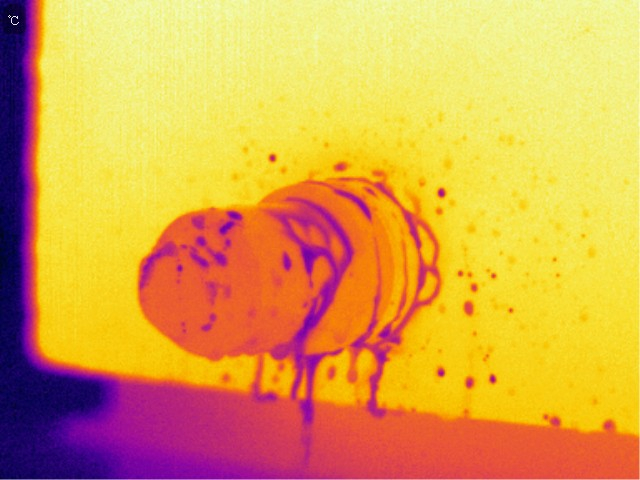Water: (268, 198, 357, 343), (268, 345, 338, 449), (359, 321, 407, 419), (402, 210, 445, 312), (329, 186, 380, 220), (364, 256, 385, 322), (250, 357, 274, 401), (206, 278, 234, 304), (344, 347, 361, 388), (190, 248, 212, 273), (210, 249, 233, 268), (277, 249, 297, 270), (190, 214, 211, 232), (461, 370, 478, 389), (543, 409, 562, 426), (220, 209, 249, 220), (329, 159, 351, 172), (205, 351, 224, 366), (600, 416, 617, 432), (461, 300, 478, 316), (435, 183, 448, 201), (229, 343, 242, 360), (485, 373, 500, 387), (218, 221, 234, 234), (246, 342, 259, 358), (429, 364, 446, 376), (196, 234, 211, 247), (207, 310, 220, 323), (469, 280, 480, 294), (266, 152, 281, 162), (221, 237, 234, 248), (201, 318, 212, 331), (175, 261, 186, 273)
